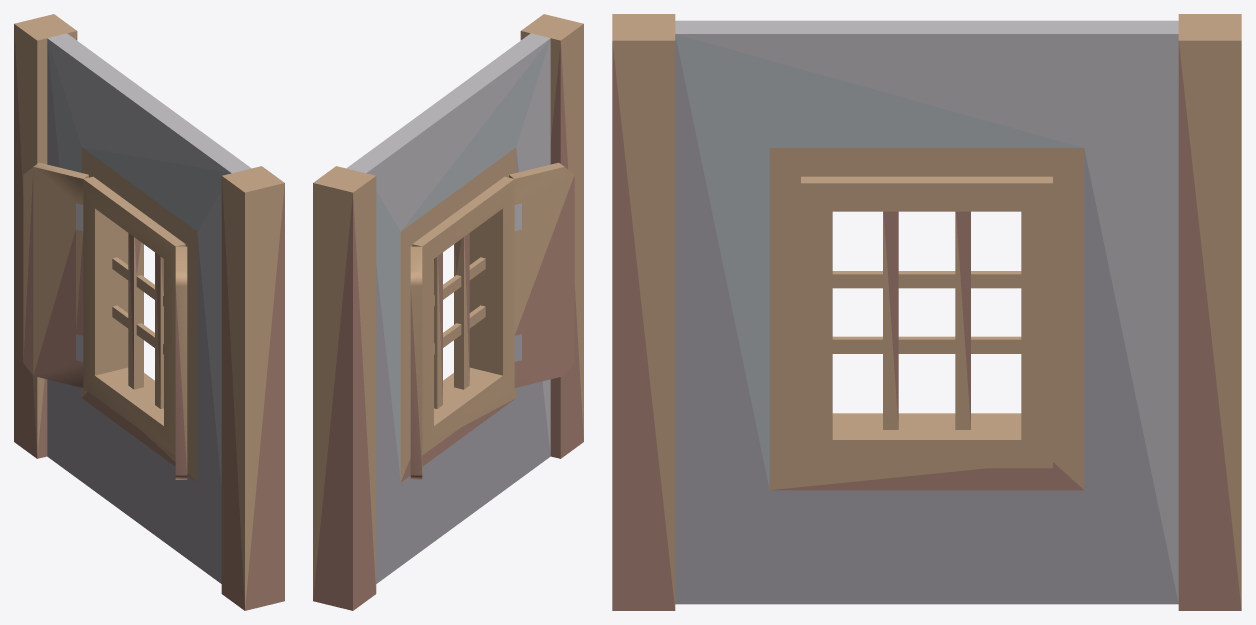
3 views of the same model, side by side, from view 1: azimuth 30°, elevation 25°; view 2: azimuth 150°, elevation 25°; view 3: azimuth 270°, elevation 25° (orthographic). The views are drawn at different scales.
Parts seen in each view (by area): view 1: model; view 2: model; view 3: model.
Boxes of the visible parts, bbox=[...] form: model: bbox=[14, 14, 284, 610]; model: bbox=[313, 14, 583, 610]; model: bbox=[612, 14, 1241, 610].
Size of the model in its own units: 0.35 by 2 by 2.
